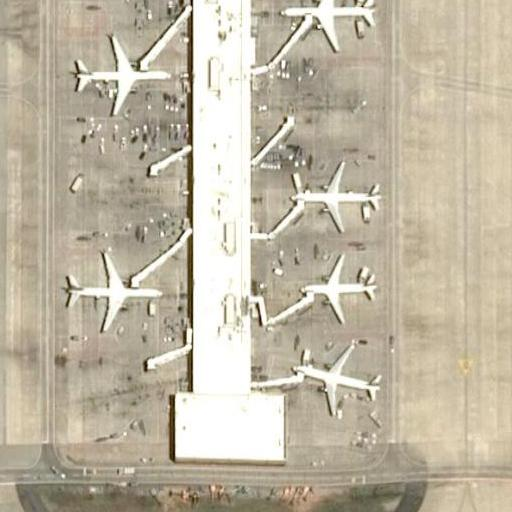Aircraft: (62, 246, 166, 332), (74, 27, 171, 112), (288, 157, 380, 230), (288, 341, 379, 413), (295, 253, 379, 325), (278, 0, 374, 50)
